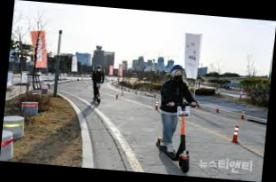helmet: (152, 63, 204, 176), (89, 64, 106, 105)
